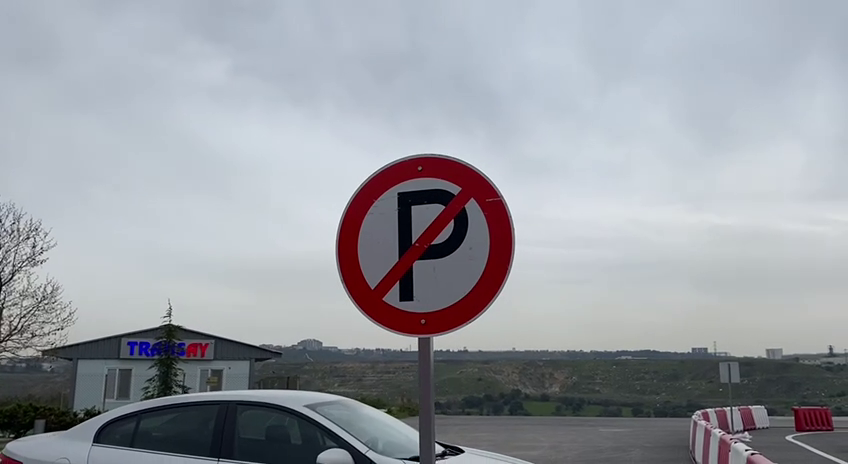noparking: (330, 147, 523, 343)
